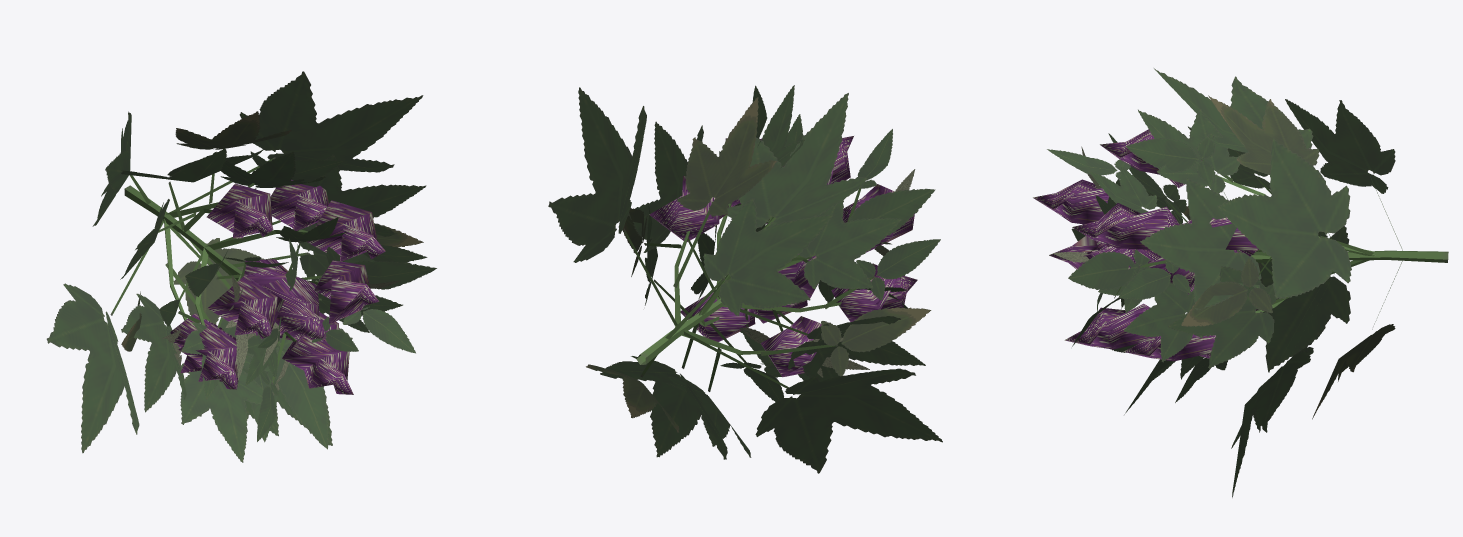
Rendered from p_purple_afghan_ripe_c0_cards.obj.
3 views of the same model, side by side, from view 1: azimuth 30°, elevation 25°; view 2: azimuth 150°, elevation 25°; view 3: azimuth 270°, elevation 25° (orthographic). The views are drawn at different scales.
Size of the model in its own units: 1.56 by 1.46 by 1.19.
Materials: 1 (1 with a texture image).
